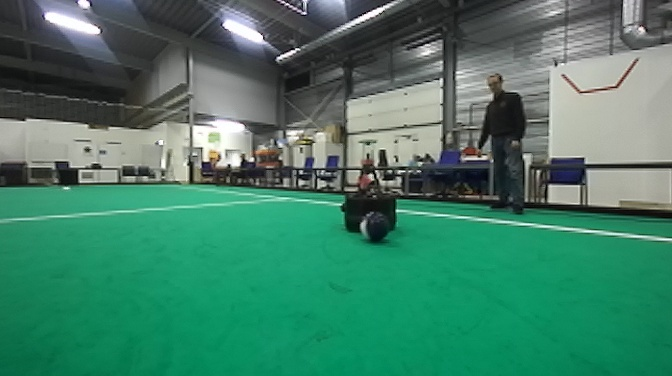ball: (357, 205, 390, 247)
human: (469, 67, 531, 218)
robot: (340, 141, 406, 233)
